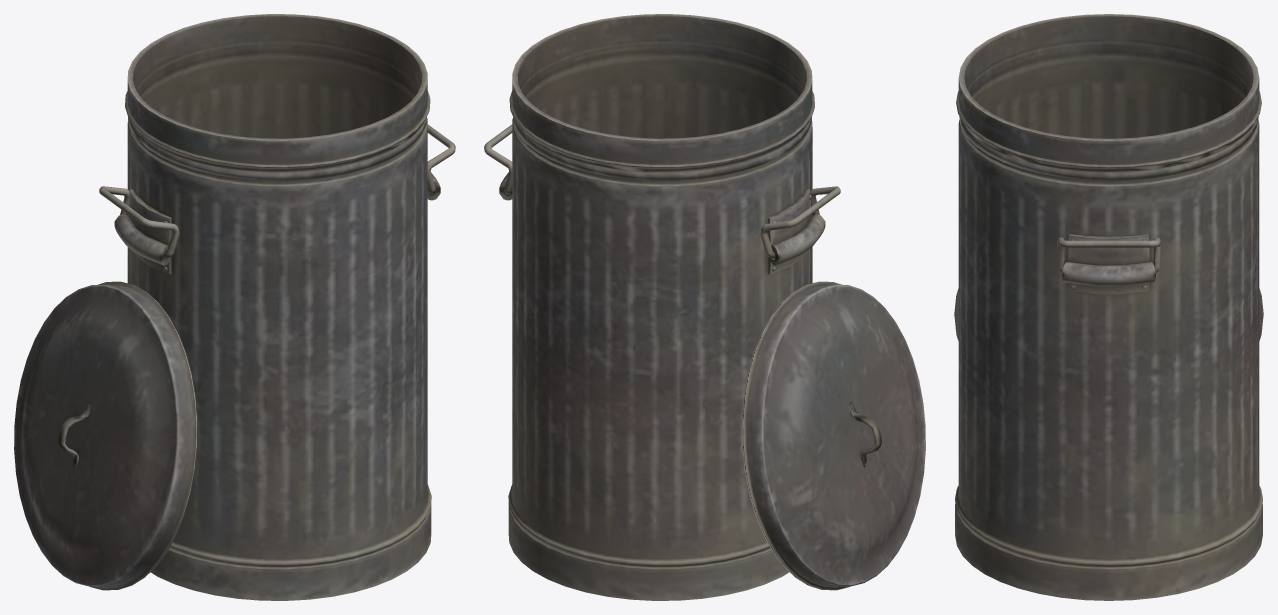
Rendered from poubelle_metal_lod0.glb.
3 renders of one model, left to right at view 1: azimuth 30°, elevation 25°; view 2: azimuth 150°, elevation 25°; view 3: azimuth 270°, elevation 25°, orthographic.
Visible parts, largest first — view 1: metal_trash_can_handle_left; view 2: metal_trash_can_handle_left; view 3: metal_trash_can_handle_left.
Boxes of the visible parts, x1,y1,x2,y2 form: metal_trash_can_handle_left: (14,14,455,600); metal_trash_can_handle_left: (484,14,925,600); metal_trash_can_handle_left: (954,14,1263,600).
Bounding box in the file's own units: 0.7773 × 0.9062 × 0.5543.
Materials: 1 (1 with a texture image).
